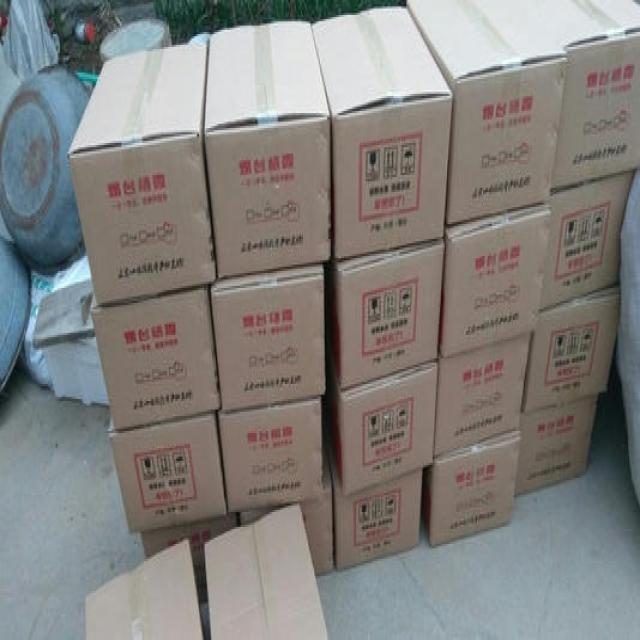box: (66, 41, 217, 305), (407, 0, 568, 224), (309, 6, 452, 258), (203, 23, 332, 282), (530, 0, 639, 190), (92, 282, 221, 433), (437, 205, 553, 358), (203, 503, 330, 640), (207, 265, 326, 410), (334, 237, 446, 388), (328, 348, 437, 499), (326, 416, 422, 570), (109, 410, 227, 535), (538, 175, 635, 311), (433, 333, 531, 465), (523, 282, 620, 412), (217, 399, 322, 516), (85, 540, 206, 640), (422, 429, 519, 546), (141, 512, 241, 606), (515, 397, 599, 497), (300, 435, 333, 574)
